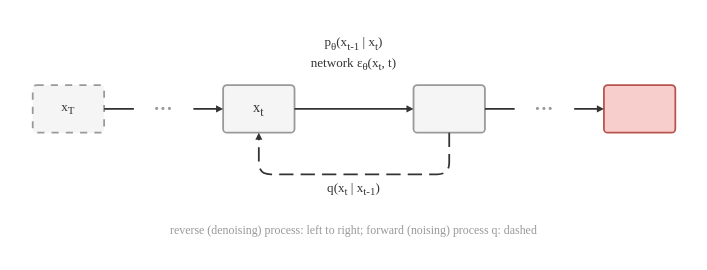
Image size: 707x270. Some labels were removed from this diagram. Here are the shapes that lost their labels. From the top down, the box of each, then its label:
(412, 84, 485, 133): x t-1
(602, 84, 676, 133): x 0
